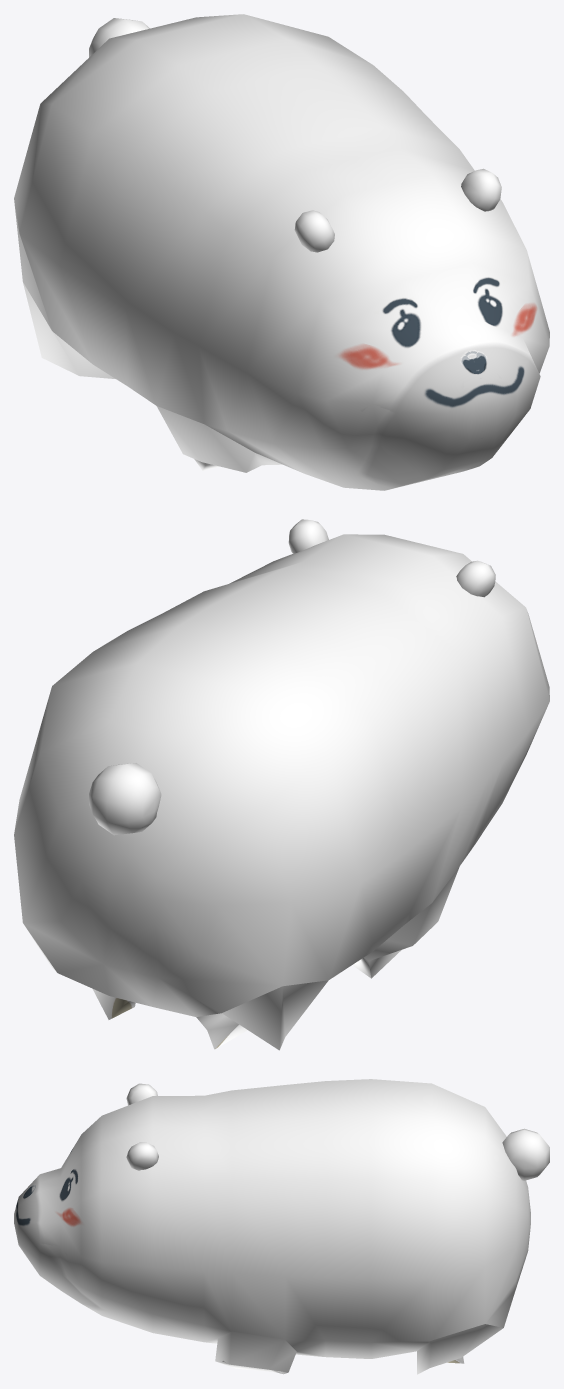
The model's file is player-character.glb.
3 renders of one model, top to bottom at view 1: azimuth 30°, elevation 25°; view 2: azimuth 150°, elevation 25°; view 3: azimuth 270°, elevation 25°, orthographic. The views are drawn at different scales.
Visible parts, largest first — view 1: Circle.004; view 2: Circle.004; view 3: Circle.004.
Boxes of the visible parts, left/top/right/bottom form: Circle.004: left=14, top=14, right=549, bottom=490; Circle.004: left=14, top=519, right=549, bottom=1050; Circle.004: left=14, top=1079, right=549, bottom=1374.
Size of the model in its own units: 2.04 by 2.04 by 3.86.
1 material, 1 textured.
